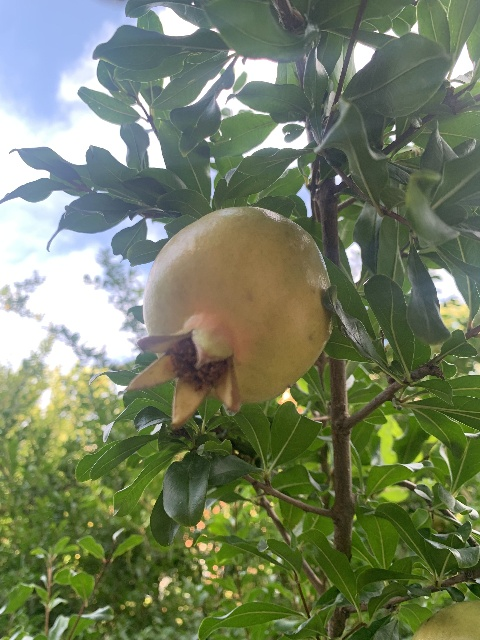mid-growth: (127, 205, 331, 429)
